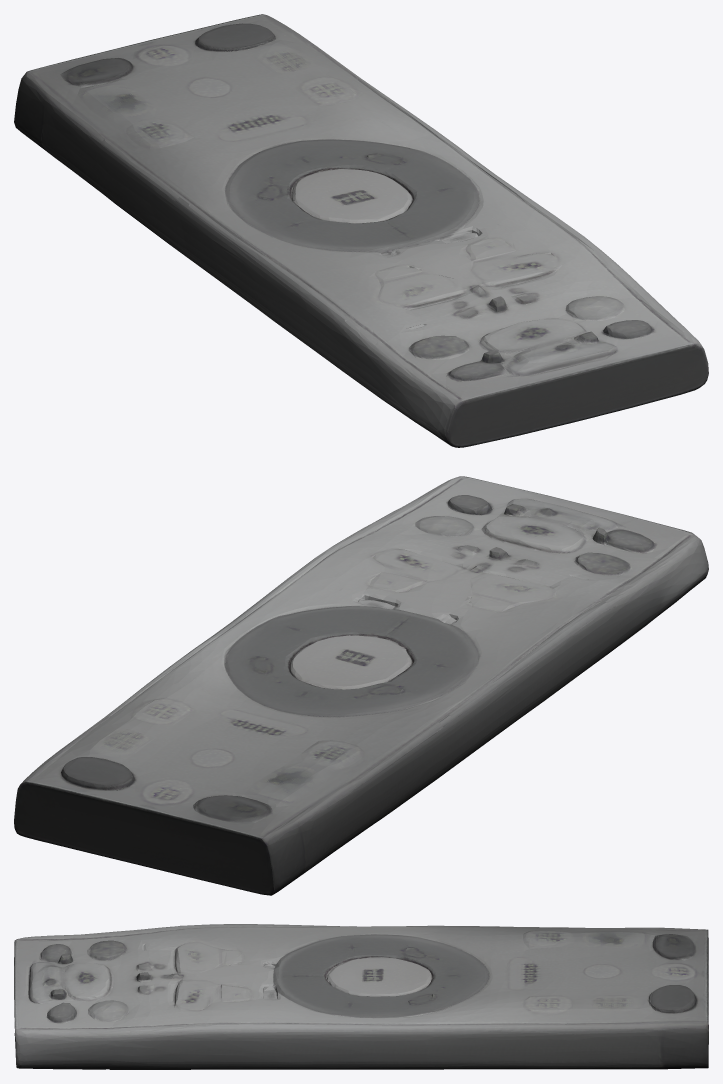
File: generated_model_1749254287.glb
3 renders of one model, top to bottom at view 1: azimuth 30°, elevation 25°; view 2: azimuth 150°, elevation 25°; view 3: azimuth 270°, elevation 25°, orthographic. The views are drawn at different scales.
Visible parts, largest first — view 1: world; view 2: world; view 3: world.
Boxes of the visible parts, <box> form: world: <box>14,14,708,447</box>; world: <box>14,476,708,895</box>; world: <box>14,924,708,1069</box>.
Bounding box in the file's own units: 0.3659 × 0.0845 × 0.9975.
Materials: 1 (1 with a texture image).
